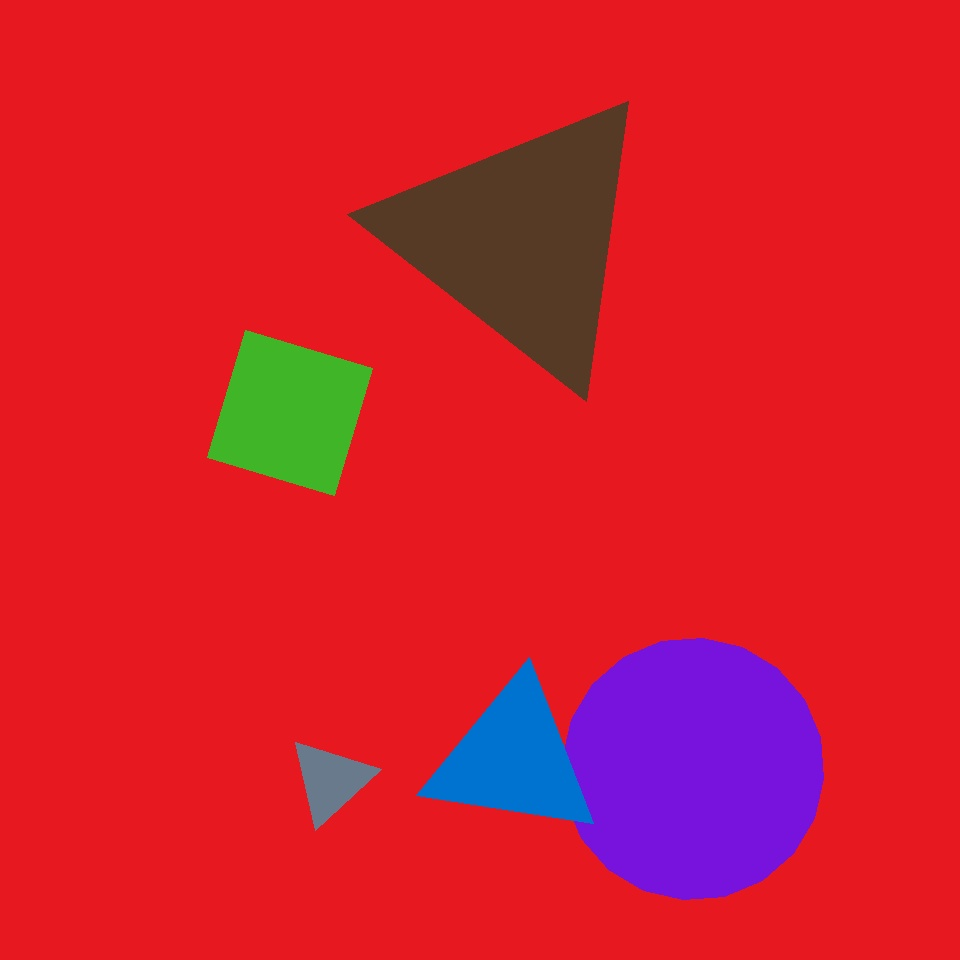circle: (380, 89, 662, 389), (518, 173, 776, 407), (425, 676, 602, 842), (288, 737, 374, 825)
square: (207, 330, 372, 496)
triangle: (562, 638, 824, 900), (304, 585, 464, 744)
